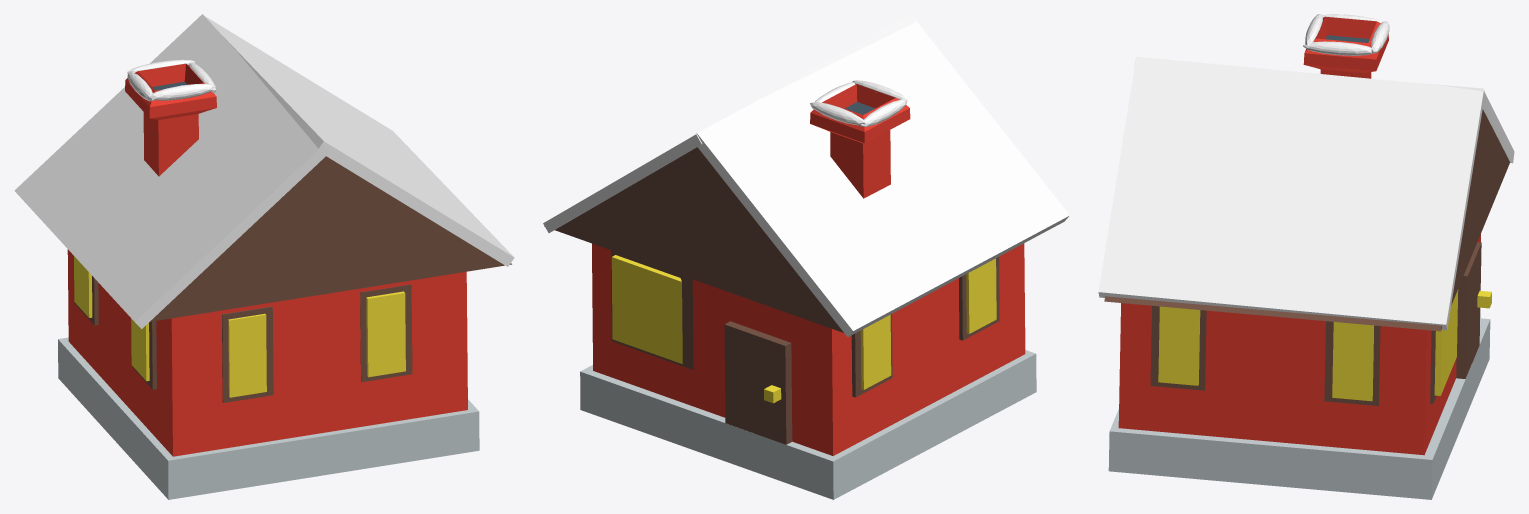
Rendered from housesnowroja2_lev5.glb.
3 renders of one model, left to right at view 1: azimuth 30°, elevation 25°; view 2: azimuth 150°, elevation 25°; view 3: azimuth 270°, elevation 25°, orthographic. The views are drawn at different scales.
Visible parts, largest first — view 1: housesnowroja2_lev5; view 2: housesnowroja2_lev5; view 3: housesnowroja2_lev5.
Part boxes in pixels (bbox=[...]): housesnowroja2_lev5: bbox=[14, 14, 514, 499]; housesnowroja2_lev5: bbox=[543, 14, 1069, 499]; housesnowroja2_lev5: bbox=[1098, 14, 1514, 499].
Size of the model in its own units: 19.58 by 16.29 by 17.34.
